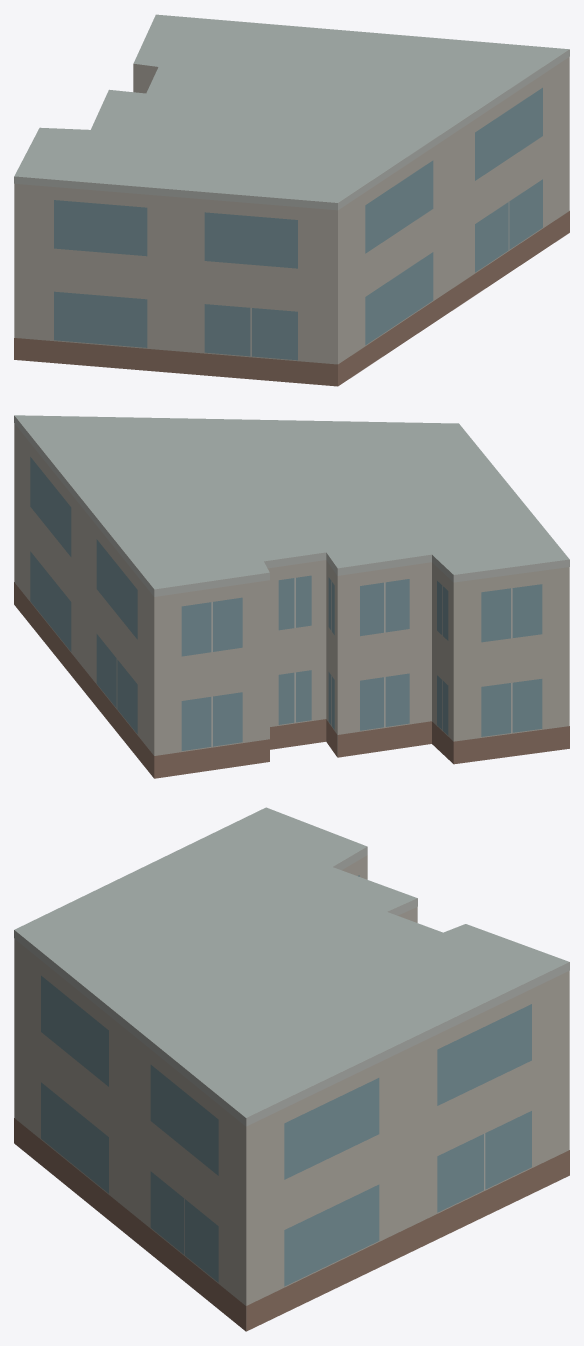
File: survey-upis-32575665.glb
3 views of the same model, one above another, from view 1: azimuth 30°, elevation 25°; view 2: azimuth 150°, elevation 25°; view 3: azimuth 270°, elevation 25° (orthographic). The views are drawn at different scales.
Visible parts, largest first — view 1: survey-upis-32575665.tmp; view 2: survey-upis-32575665.tmp; view 3: survey-upis-32575665.tmp.
Boxes of the visible parts, x1,y1,x2,y2 form: survey-upis-32575665.tmp: [14, 14, 569, 386]; survey-upis-32575665.tmp: [14, 415, 569, 778]; survey-upis-32575665.tmp: [14, 807, 569, 1331].
Bounding box in the file's own units: 19.05 × 6.1 × 14.4.
